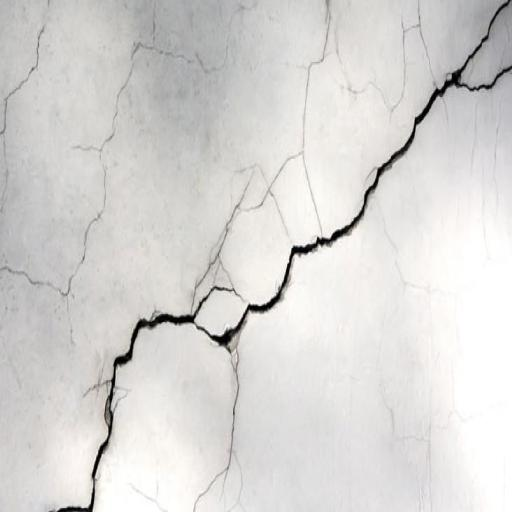spalling: (86, 1, 509, 508), (3, 3, 47, 142), (225, 360, 244, 483)
